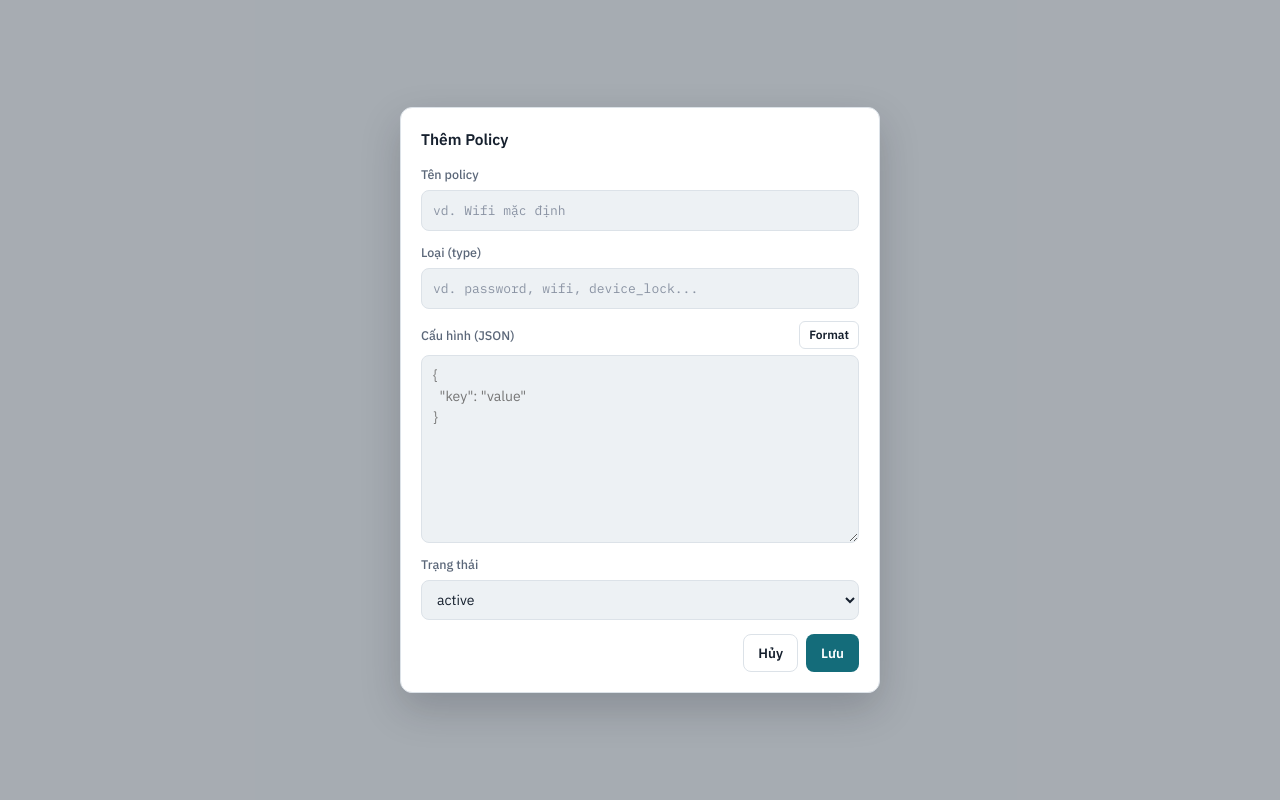
Test: PolicyFormModal › parseConfiguration via blur / Format / submit (§2.2) › rejects syntactically-valid JSON that is not a plain object: ["a","b"]
This screenshot has width=1280, height=800.
Type "[\"a\",\"b\"]" into the text box with test id "policy-form-configuration" at (640, 449), box [421,355,859,543]
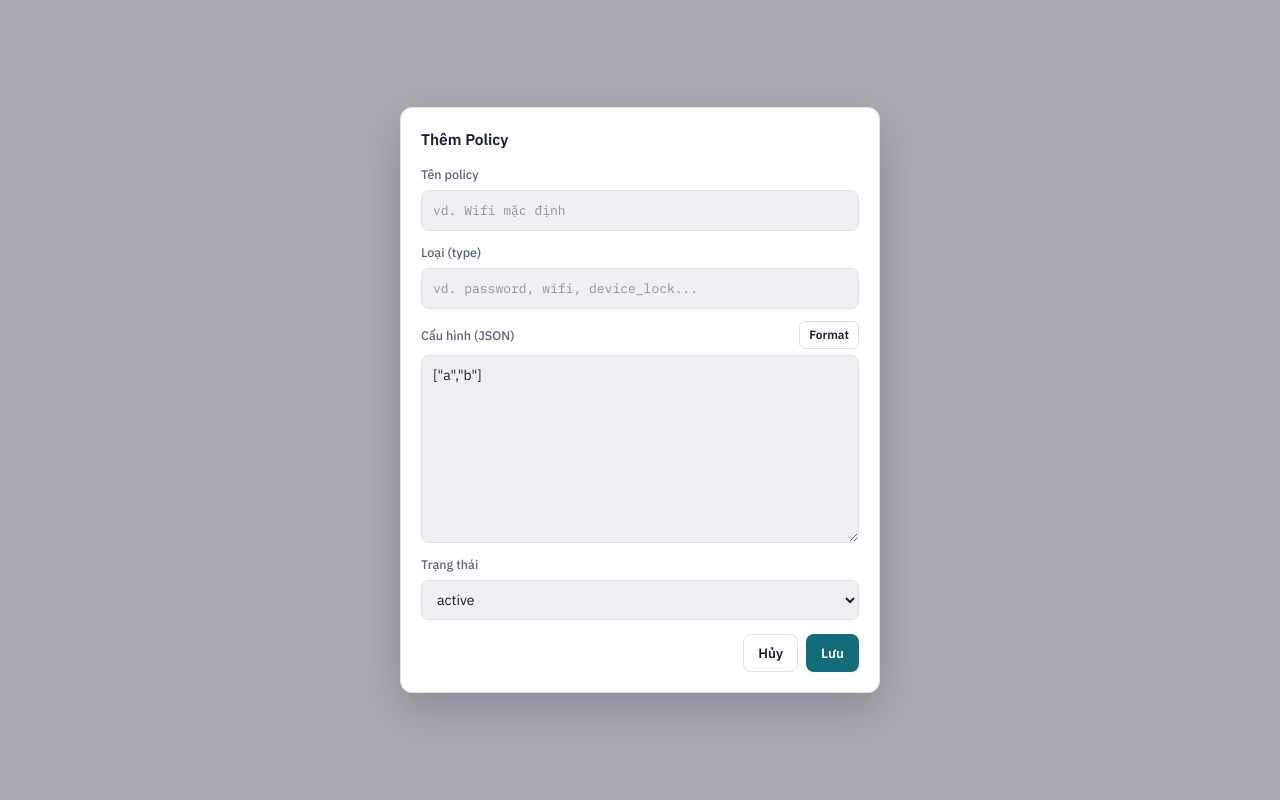
Leave the text box with test id "policy-form-configuration", box [421,355,859,543]
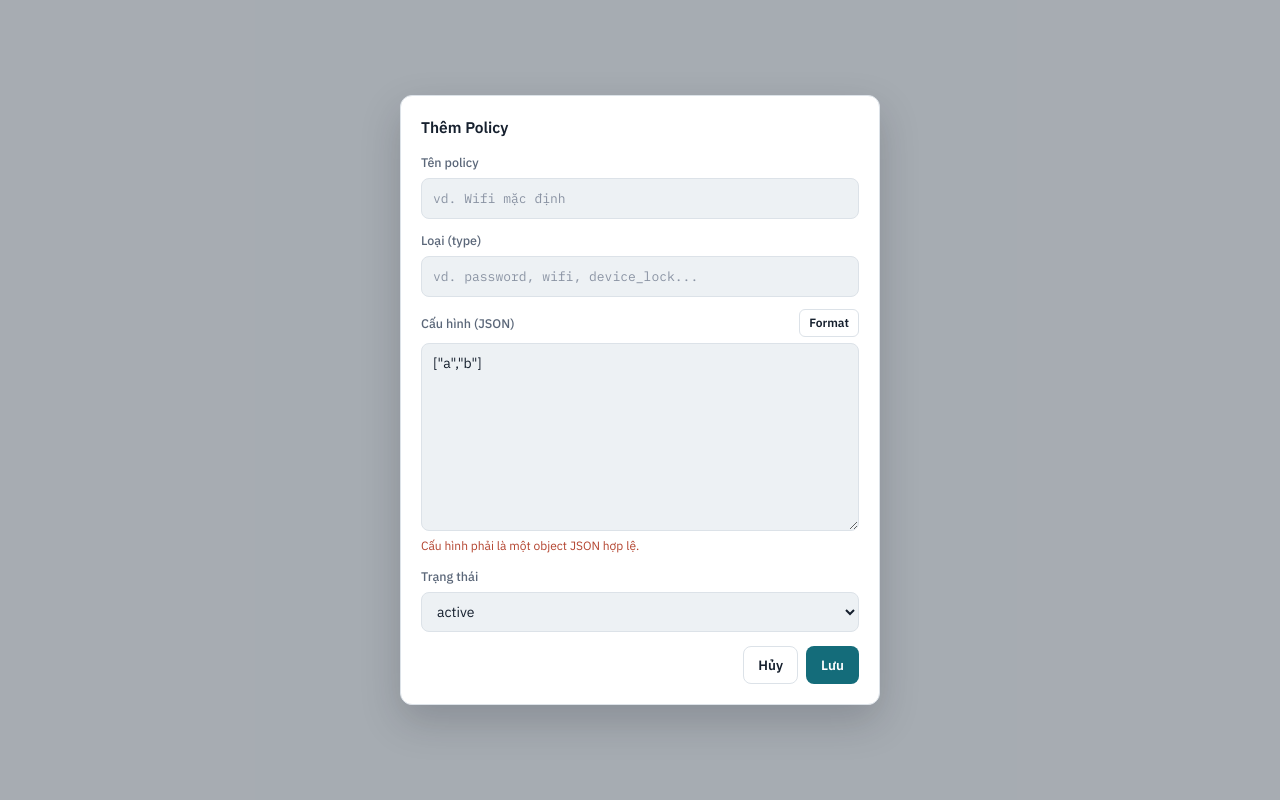
Expected: the text with test id "field-error-configuration" reads "Cấu hình phải là một object JSON hợp lệ.", [421,538,639,553]
